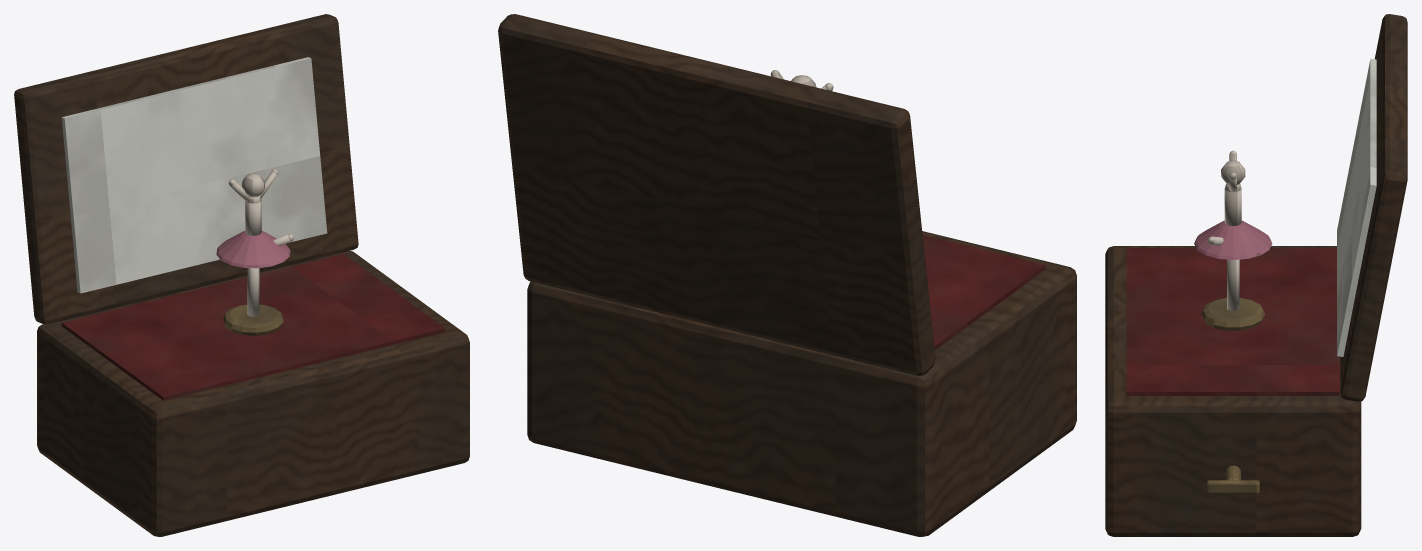
The model's file is T15_music_box_ballerina.glb.
3 renders of one model, left to right at view 1: azimuth 30°, elevation 25°; view 2: azimuth 150°, elevation 25°; view 3: azimuth 270°, elevation 25°, orthographic. The views are drawn at different scales.
Visible parts, largest first — view 1: T15_music_box_ballerina; view 2: T15_music_box_ballerina; view 3: T15_music_box_ballerina.
Part boxes in pixels (x1=…): T15_music_box_ballerina: x1=14, y1=14, x2=469, y2=536; T15_music_box_ballerina: x1=498, y1=14, x2=1076, y2=536; T15_music_box_ballerina: x1=1105, y1=14, x2=1407, y2=536.
Bounding box in the file's own units: 0.25 × 0.2394 × 0.179.
Materials: 6 (6 with a texture image).
